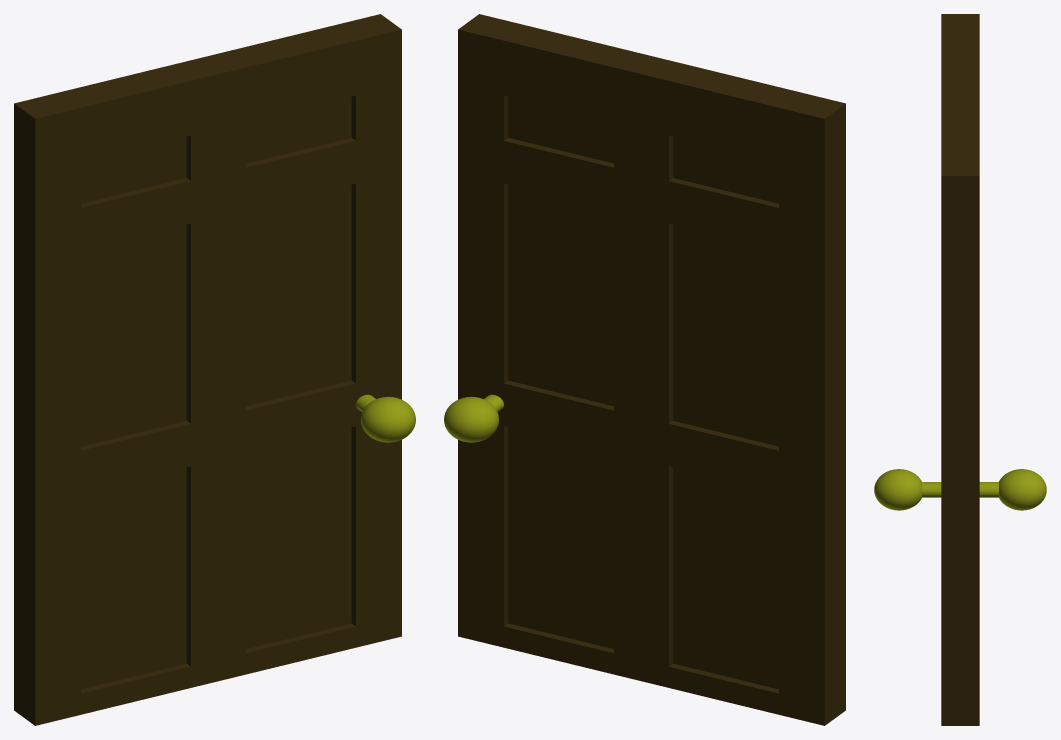
File: Door_Two_Sided_Color.fbx
3 views of the same model, side by side, from view 1: azimuth 30°, elevation 25°; view 2: azimuth 150°, elevation 25°; view 3: azimuth 270°, elevation 25° (orthographic). The views are drawn at different scales.
Visible parts, largest first — view 1: Object; view 2: Object; view 3: Object.
Part boxes in pixels (x1,y1,x2,y2): Object: (14,14,415,725); Object: (444,14,845,725); Object: (874,14,1046,725).
Size of the model in its own units: 50 by 79.11 by 22.49.
